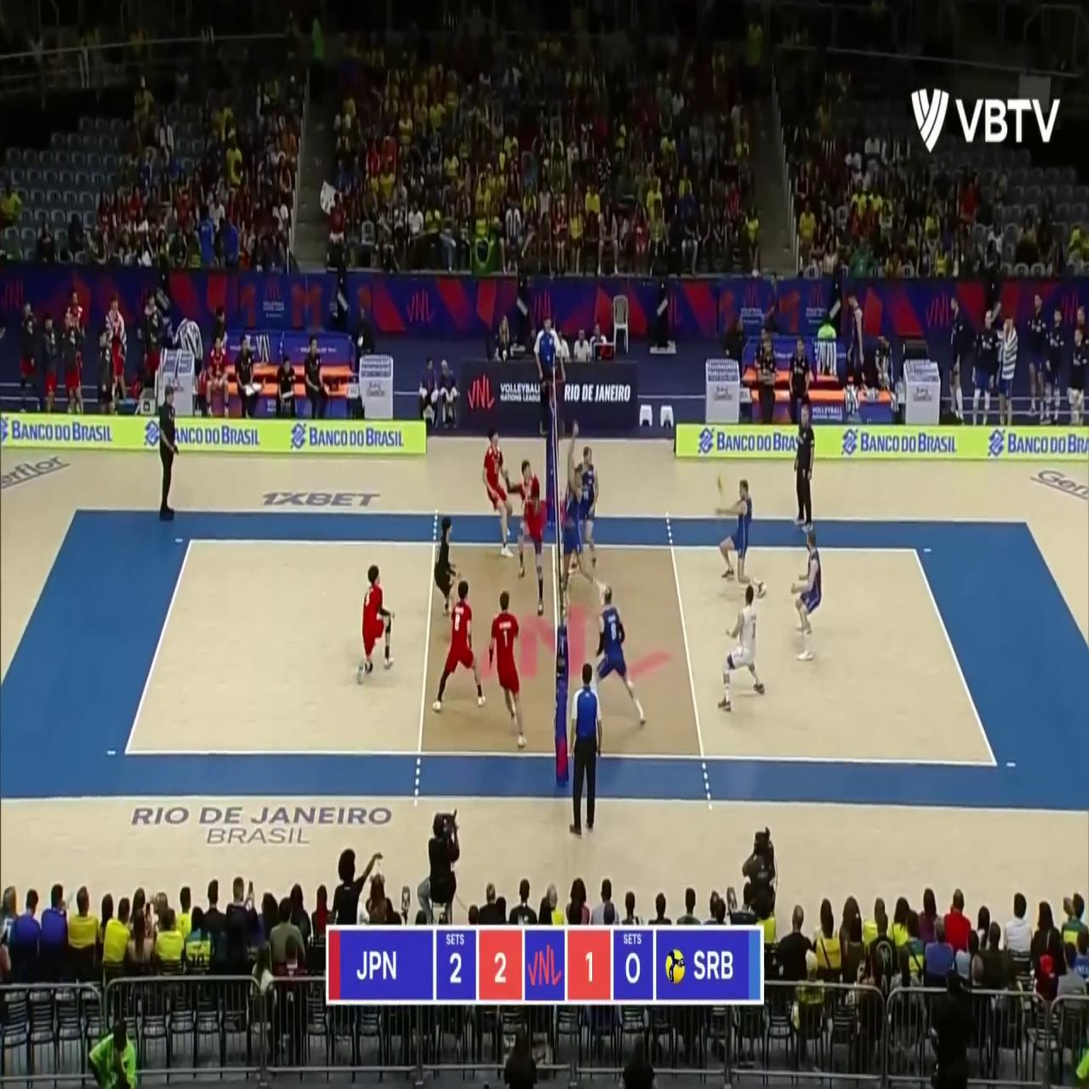ball: (717, 473, 727, 493)
